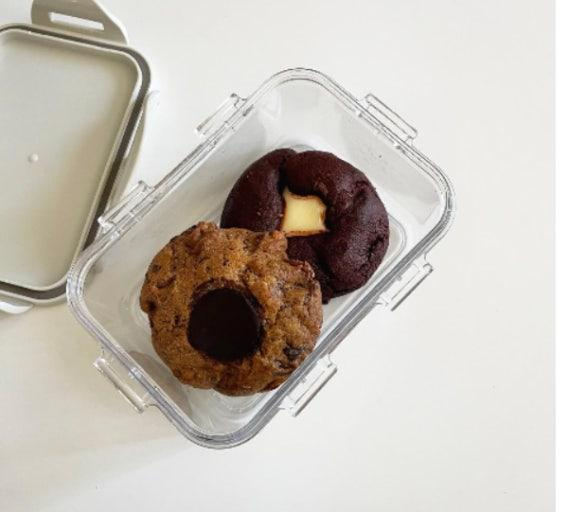Lunch Box: (0, 0, 452, 447)
